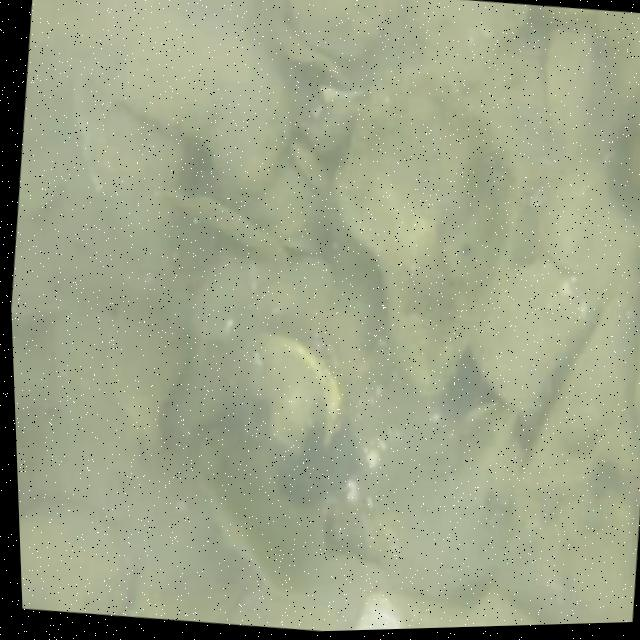Oyster-Indeterminate: (323, 57, 520, 407), (109, 18, 289, 194), (193, 416, 330, 607), (467, 257, 580, 412), (245, 329, 340, 458), (107, 293, 191, 437), (19, 508, 131, 615), (156, 185, 286, 265), (289, 0, 384, 60)
